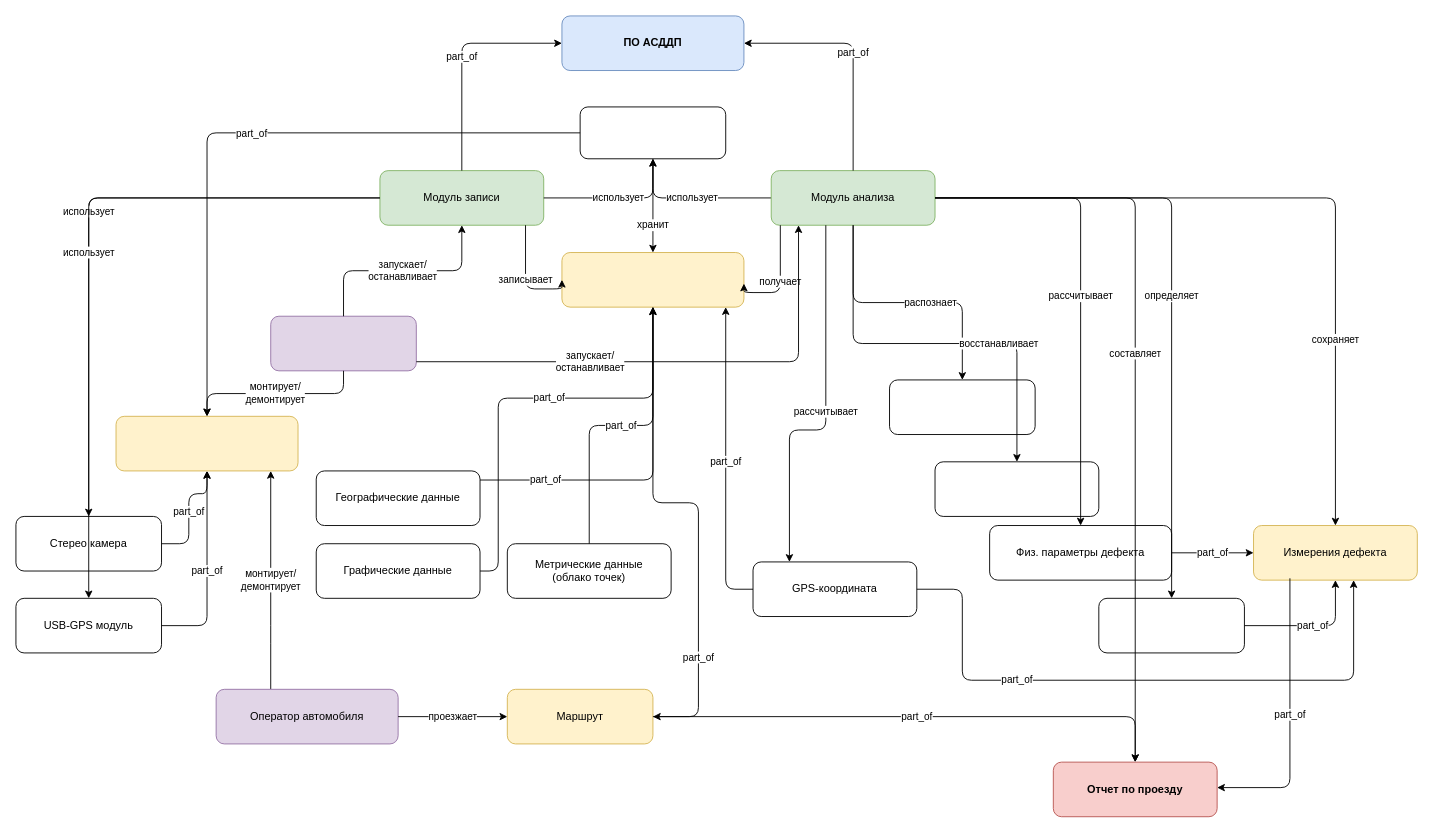
The diagram is 1433 pixels wide and 833 high, and some of its shapes have lost their labels. The shapes that lost their labels are listed below. From the top down, each one's box as (x1, y1, x2, y2) in pixels, then its label:
(579, 106, 726, 159): Ноутбук
(561, 252, 744, 307): Пространственно- временны́е данные
(270, 315, 416, 371): Оператор ПО
(889, 379, 1035, 435): Образ дефекта
(115, 415, 298, 471): Техническое оснащение
(934, 461, 1099, 516): 3D модель дефекта
(1098, 597, 1244, 653): Класс дефекта
